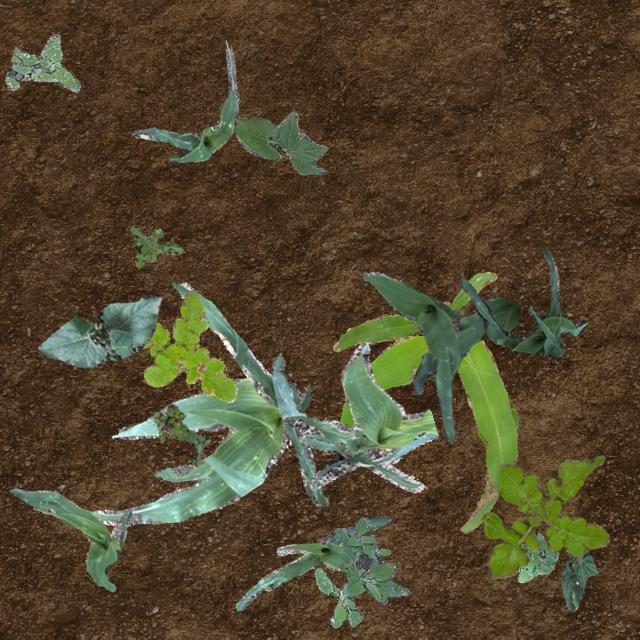crop: (90, 282, 323, 524), (332, 270, 518, 532), (360, 270, 520, 442), (270, 342, 438, 492), (234, 514, 390, 610), (458, 248, 586, 356), (130, 46, 238, 162), (8, 488, 130, 590), (36, 293, 160, 367), (234, 110, 326, 173), (560, 548, 598, 610)
weed: (479, 454, 608, 578), (142, 290, 236, 402), (334, 516, 408, 600), (4, 33, 80, 90), (314, 566, 386, 626), (152, 402, 210, 466), (130, 224, 182, 268), (516, 532, 558, 582)
